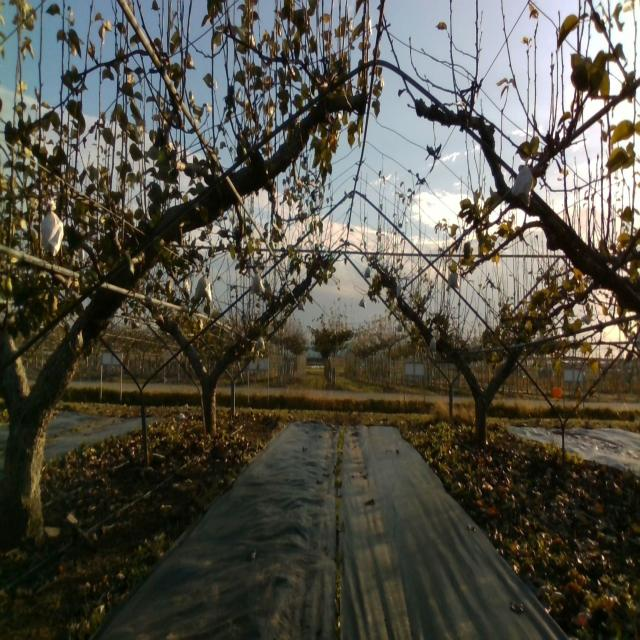pearbags: (40, 199, 64, 257), (511, 159, 534, 208), (194, 270, 214, 304), (250, 266, 265, 296), (445, 270, 459, 291)
